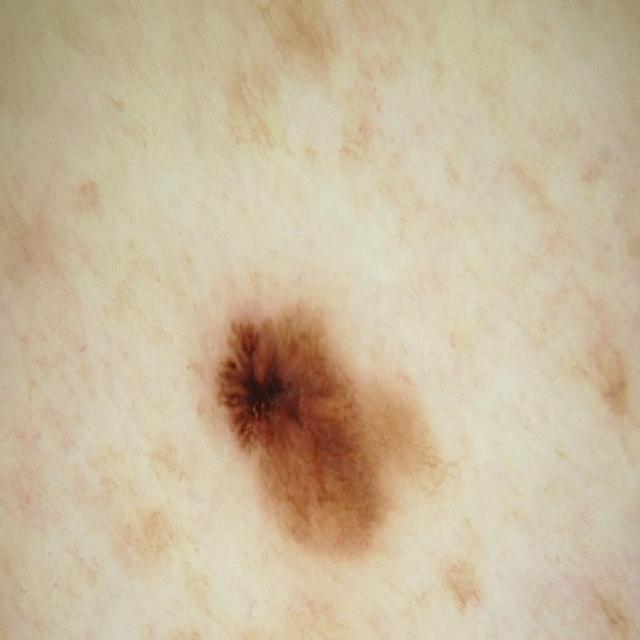Melanoma: (218, 231, 453, 640)
